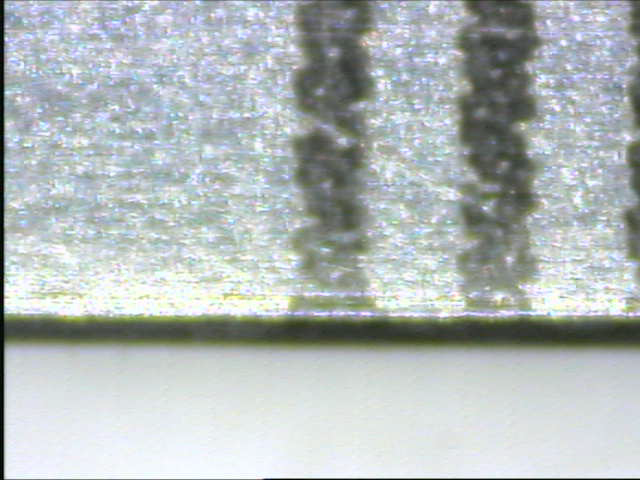line: (287, 1, 381, 315), (453, 1, 543, 316)
